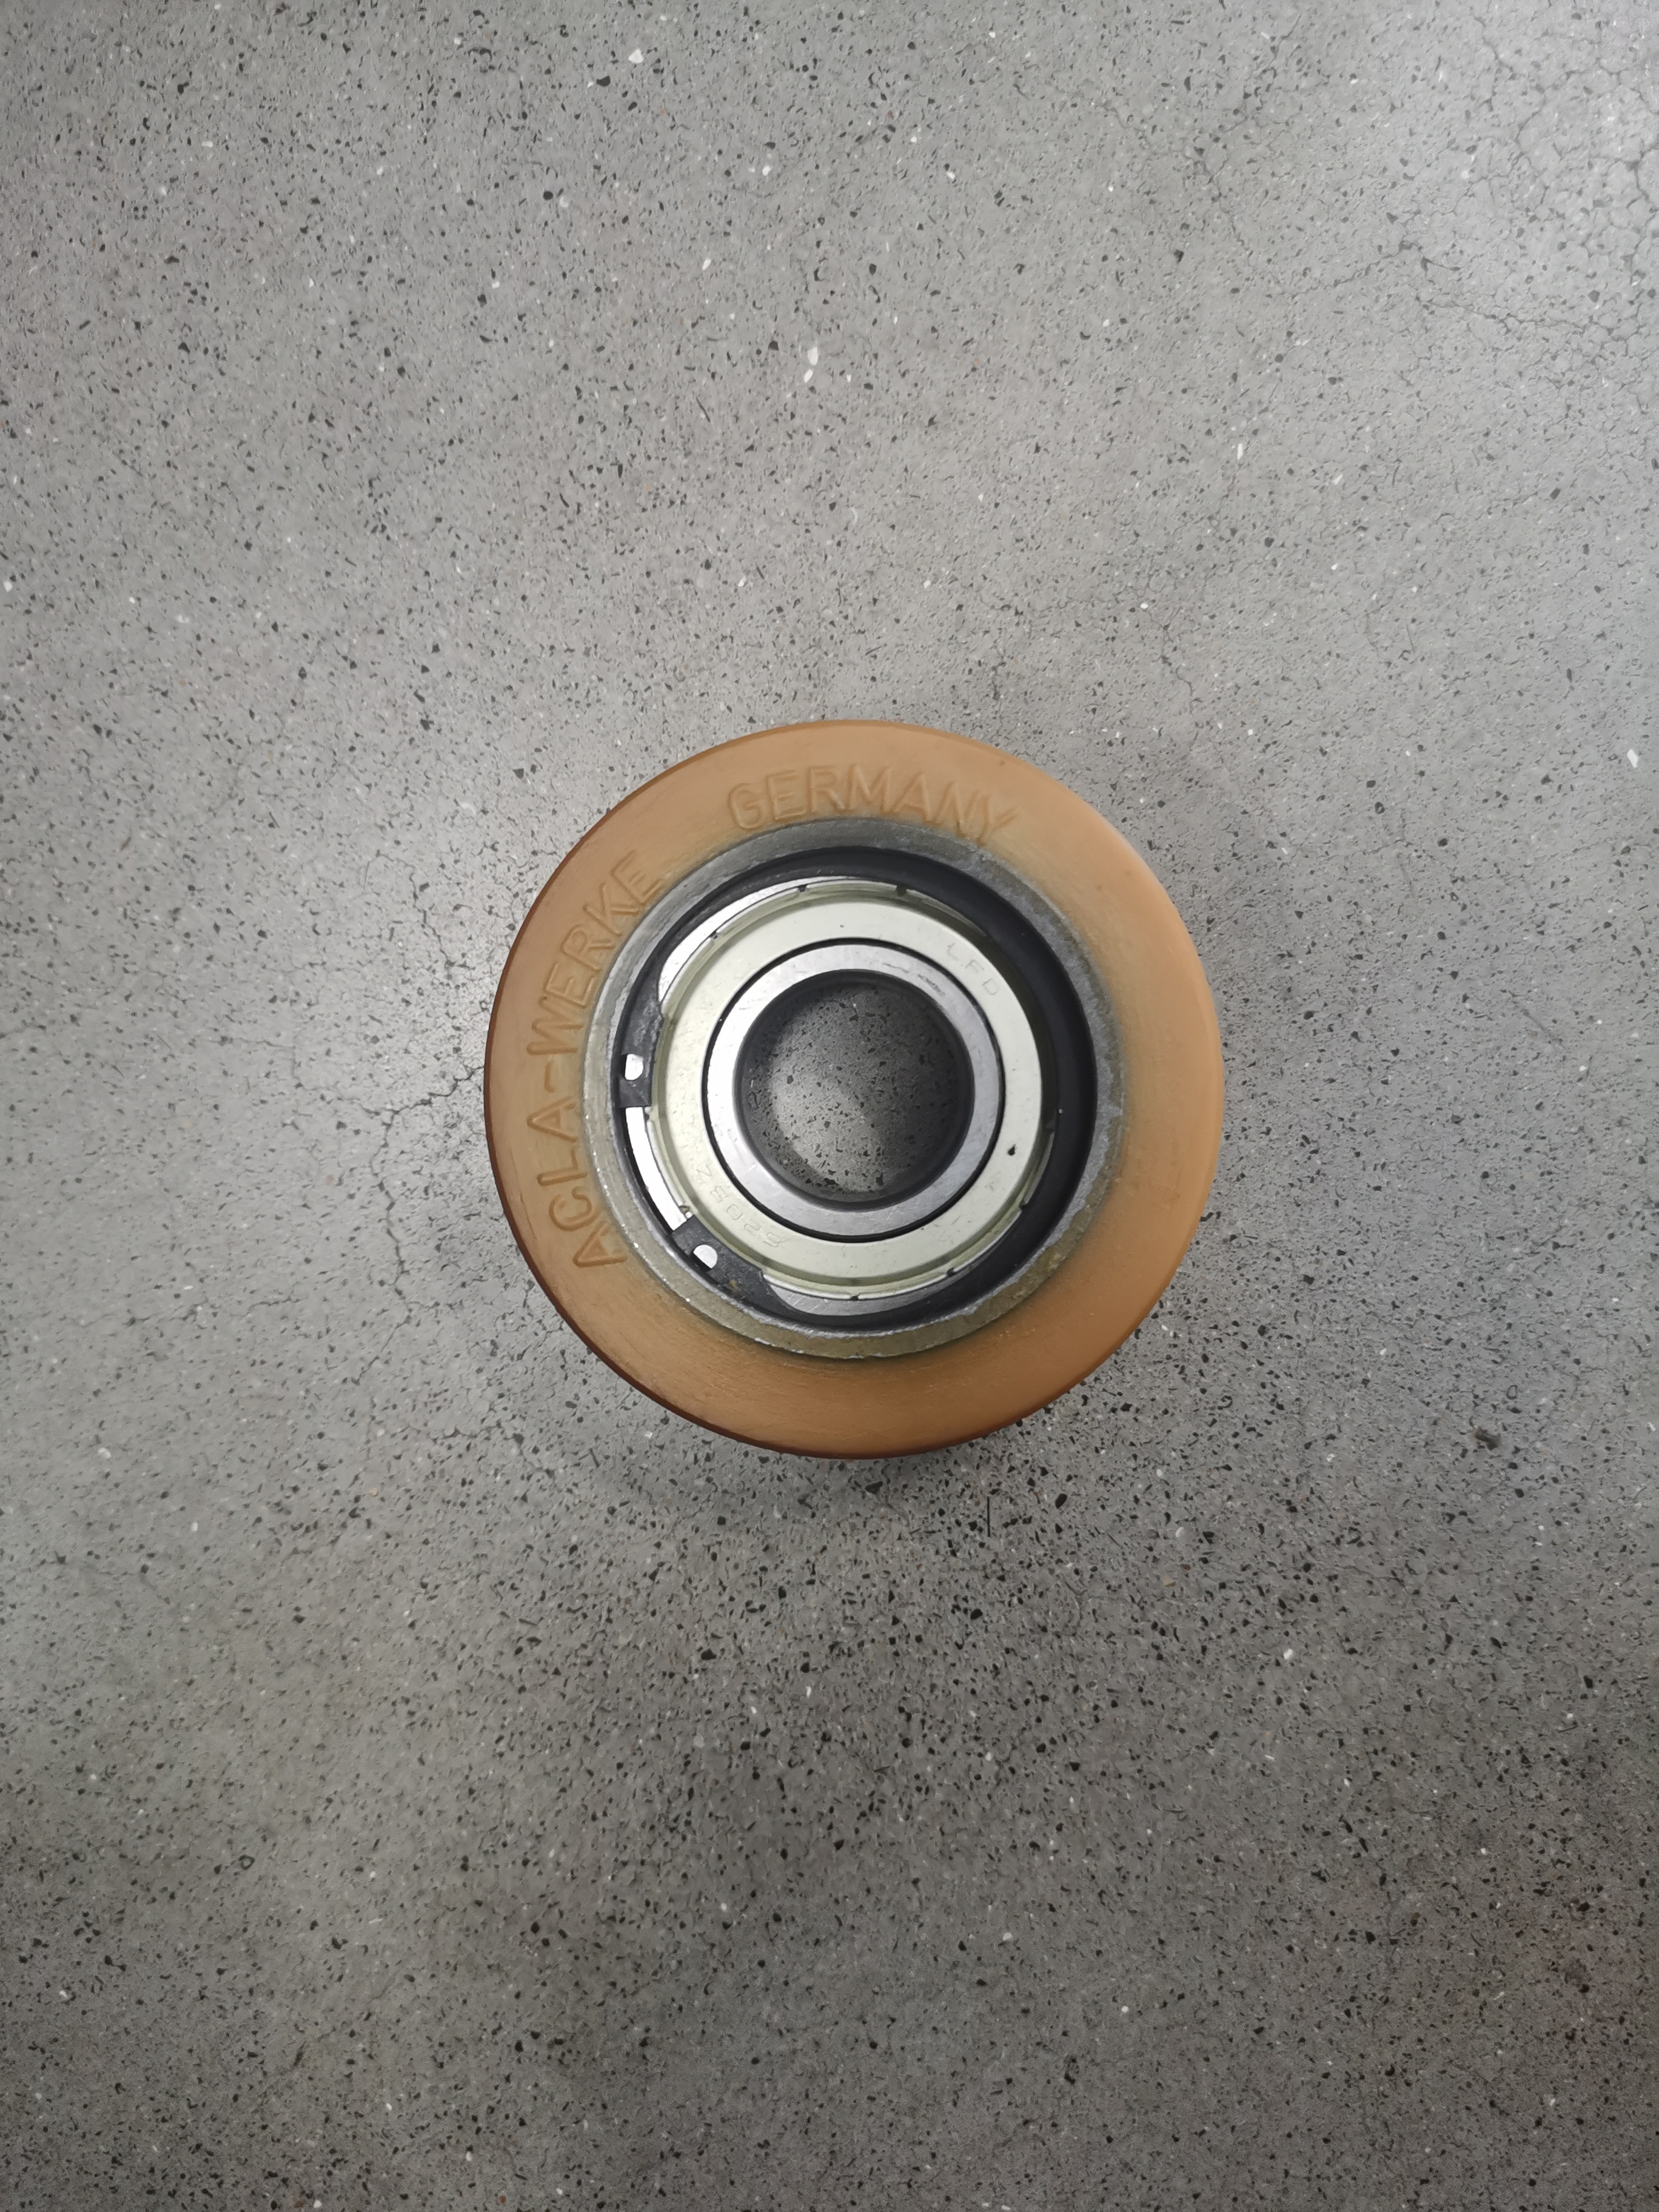good_wheel: (472, 674, 1262, 1453)
